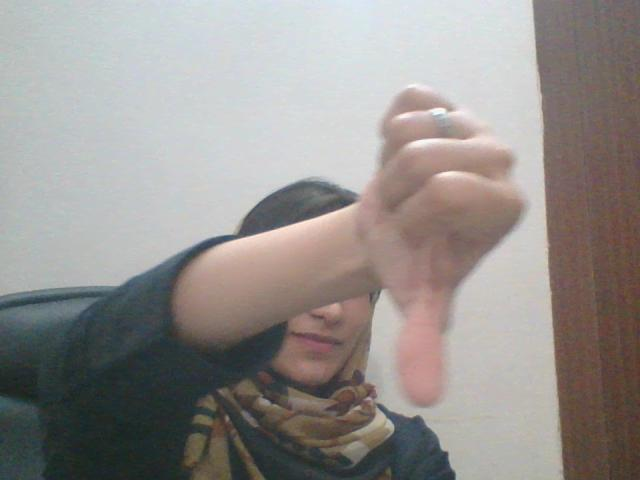thumbs-down: (363, 83, 536, 417)
